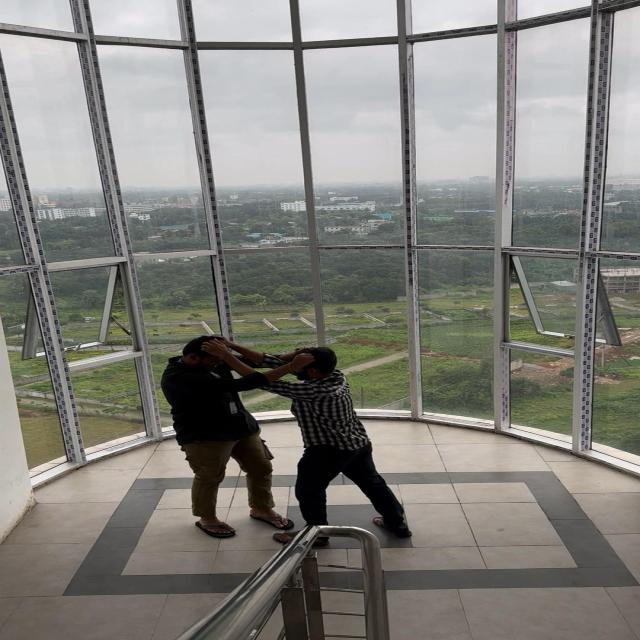fight: (147, 327, 427, 555)
